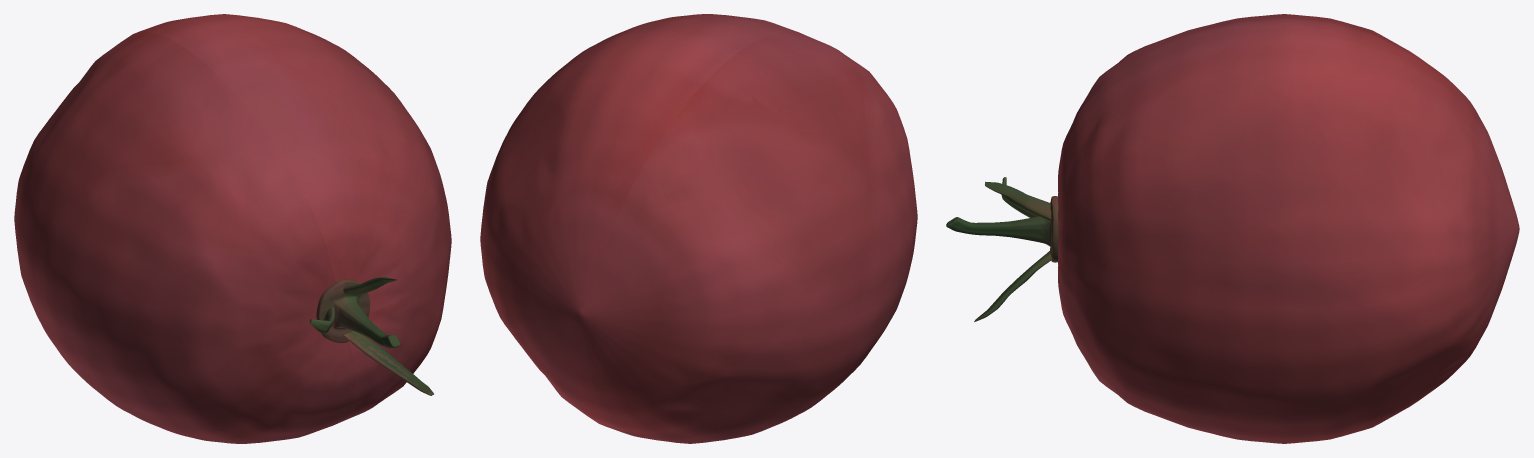
File: cherry-tomato.glb
The picture shows the model from 3 angles, left to right: view 1: azimuth 30°, elevation 25°; view 2: azimuth 150°, elevation 25°; view 3: azimuth 270°, elevation 25°; orthographic projection.
Visible parts, largest first — view 1: Sphere_0; view 2: Sphere_0; view 3: Sphere_0.
Part boxes in pixels (bbox=[...]): Sphere_0: bbox=[14, 14, 451, 443]; Sphere_0: bbox=[480, 14, 917, 443]; Sphere_0: bbox=[946, 14, 1519, 443].
Bounding box in the file's own units: 0.03 × 0.03 × 0.04.
1 material, 1 textured.
